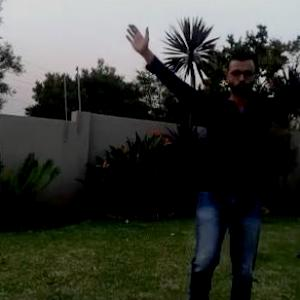takeoff: (128, 33, 299, 299)
